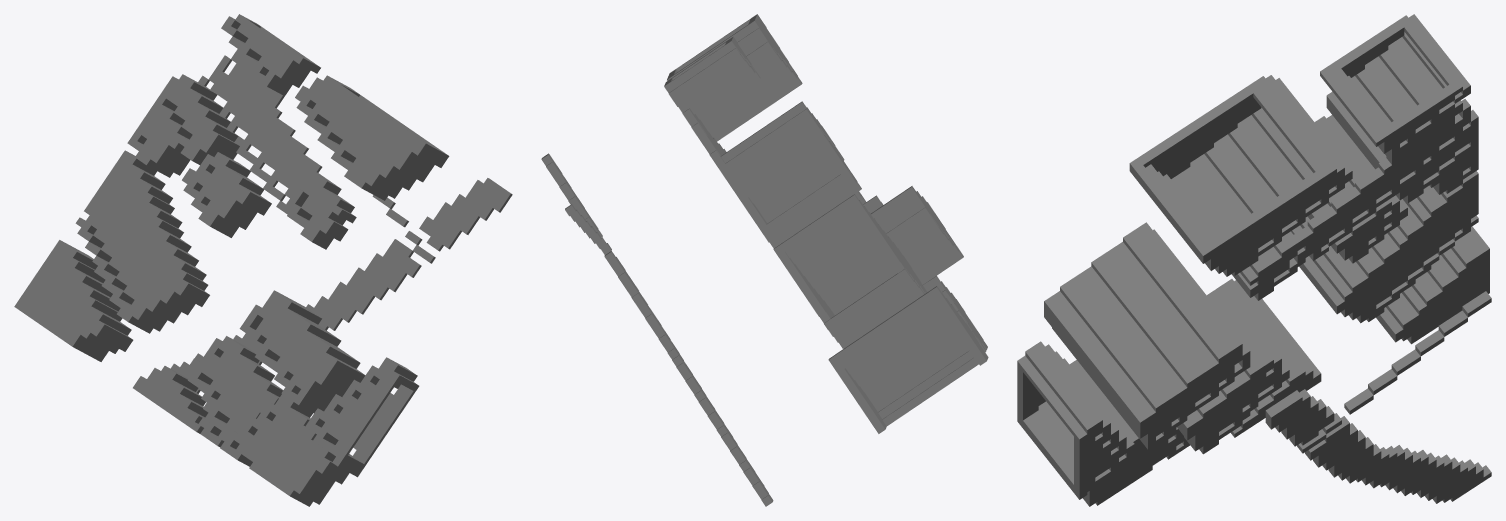
File: tile_2_3.glb
3 renders of one model, left to right at view 1: azimuth 30°, elevation 25°; view 2: azimuth 150°, elevation 25°; view 3: azimuth 270°, elevation 25°, orthographic. The views are drawn at different scales.
Parts seen in each view (by area): view 1: universal_minecraft:concrete:up, universal_minecraft:terracotta:up, universal_minecraft:concrete:north, universal_minecraft:stone_bricks:north, universal_minecraft:stone_bricks:up, universal_minecraft:stained_terracotta:up, universal_minecraft:grass_block:up, universal_minecraft:concrete:west, universal_minecraft:stone_bricks:west; view 2: universal_minecraft:stone_bricks:south, universal_minecraft:concrete:south, universal_minecraft:concrete:up, universal_minecraft:grass_block:south, universal_minecraft:terracotta:south, universal_minecraft:concrete:west, universal_minecraft:terracotta:up, universal_minecraft:grass_block:up, universal_minecraft:stone_bricks:west, universal_minecraft:stone_bricks:up; view 3: universal_minecraft:concrete:west, universal_minecraft:stone_bricks:west, universal_minecraft:concrete:down, universal_minecraft:grass_block:down, universal_minecraft:concrete:north, universal_minecraft:stone_bricks:down, universal_minecraft:stone_bricks:north, universal_minecraft:stained_terracotta:down, universal_minecraft:grass_block:west, universal_minecraft:stained_terracotta:west.
Boxes of the visible parts, x1=… form: universal_minecraft:concrete:up: x1=127, y1=14, x2=510, y2=495; universal_minecraft:terracotta:up: x1=14, y1=156, x2=330, y2=388; universal_minecraft:concrete:north: x1=137, y1=20, x2=512, y2=506; universal_minecraft:stone_bricks:north: x1=72, y1=158, x2=365, y2=447; universal_minecraft:stone_bricks:up: x1=51, y1=150, x2=342, y2=445; universal_minecraft:stained_terracotta:up: x1=138, y1=83, x2=419, y2=423; universal_minecraft:grass_block:up: x1=260, y1=27, x2=440, y2=463; universal_minecraft:concrete:west: x1=139, y1=15, x2=511, y2=462; universal_minecraft:stone_bricks:west: x1=61, y1=151, x2=364, y2=440; universal_minecraft:stone_bricks:south: x1=773, y1=187, x2=978, y2=425; universal_minecraft:concrete:south: x1=541, y1=19, x2=986, y2=506; universal_minecraft:concrete:up: x1=548, y1=14, x2=987, y2=501; universal_minecraft:grass_block:south: x1=741, y1=198, x2=885, y2=433; universal_minecraft:terracotta:south: x1=852, y1=202, x2=986, y2=365; universal_minecraft:concrete:west: x1=541, y1=14, x2=958, y2=499; universal_minecraft:terracotta:up: x1=859, y1=193, x2=987, y2=360; universal_minecraft:grass_block:up: x1=671, y1=69, x2=886, y2=429; universal_minecraft:stone_bricks:west: x1=774, y1=186, x2=972, y2=419; universal_minecraft:stone_bricks:up: x1=854, y1=186, x2=988, y2=357; universal_minecraft:concrete:west: x1=1017, y1=14, x2=1491, y2=484; universal_minecraft:stone_bricks:west: x1=1044, y1=171, x2=1489, y2=440; universal_minecraft:concrete:down: x1=1023, y1=27, x2=1491, y2=506; universal_minecraft:grass_block:down: x1=1079, y1=92, x2=1489, y2=500; universal_minecraft:concrete:north: x1=1017, y1=28, x2=1470, y2=506; universal_minecraft:stone_bricks:down: x1=1140, y1=174, x2=1489, y2=449; universal_minecraft:stone_bricks:north: x1=1044, y1=184, x2=1466, y2=449; universal_minecraft:stained_terracotta:down: x1=1143, y1=93, x2=1261, y2=178; universal_minecraft:grass_block:west: x1=1095, y1=84, x2=1454, y2=454; universal_minecraft:stained_terracotta:west: x1=1138, y1=86, x2=1252, y2=164.
Size of the model in its own units: 70.58 by 59.32 by 48.95.
Materials: 27 (27 with a texture image).
